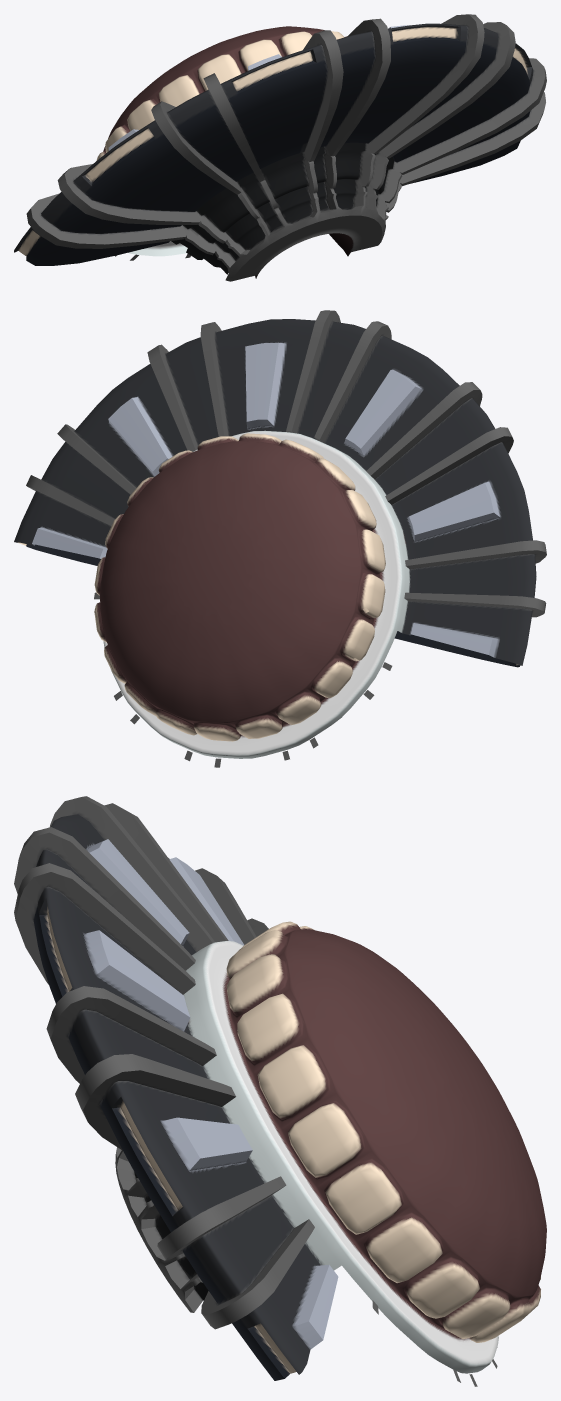
The model's file is ufo broken.fbx.
The picture shows the model from 3 angles, top to bottom: view 1: azimuth 30°, elevation 25°; view 2: azimuth 150°, elevation 25°; view 3: azimuth 270°, elevation 25°; orthographic projection. The views are drawn at different scales.
Visible parts, largest first — view 1: pCylinder1; view 2: pCylinder1; view 3: pCylinder1.
Part boxes in pixels (box(x1,y1,x2,y2)): pCylinder1: box(14, 14, 546, 281); pCylinder1: box(14, 310, 546, 767); pCylinder1: box(14, 796, 546, 1386).
Size of the model in its own units: 18.12 by 11.37 by 10.79.
